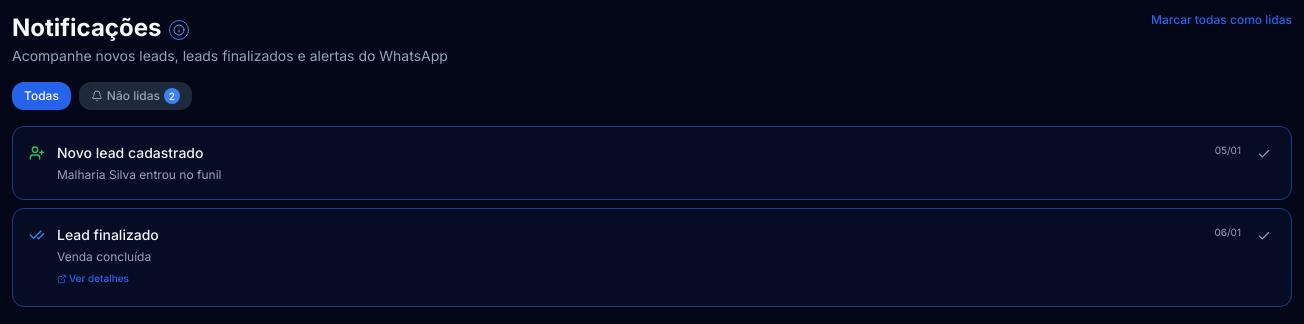
Scenario: NotificacoesPage › mostra estado vazio no filtro de não lidas
Expected: the text "Novo lead cadastrado" is shown, [57,143,204,163]
Click the button "Não lidas 2" at (135,96), box [79,82,192,110]
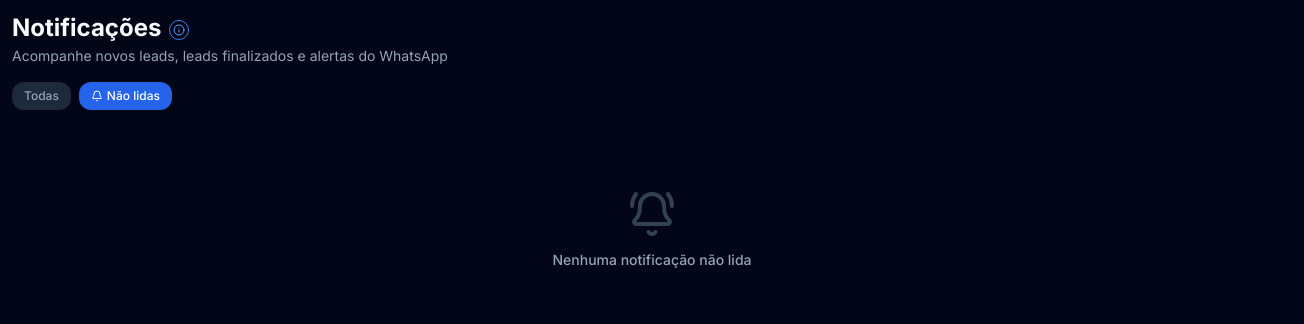
Expected: the text "Nenhuma notificação não lida" is shown, [552,250,752,270]
